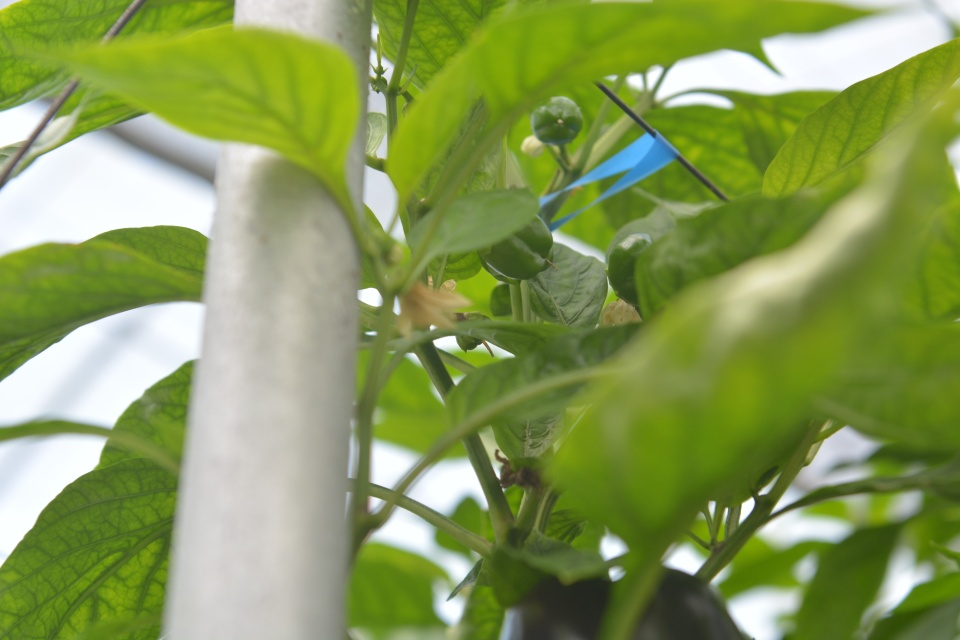flower: (390, 276, 477, 345)
fruit: (502, 555, 754, 640)
immature: (474, 211, 556, 286), (606, 231, 654, 308), (530, 93, 585, 148)
